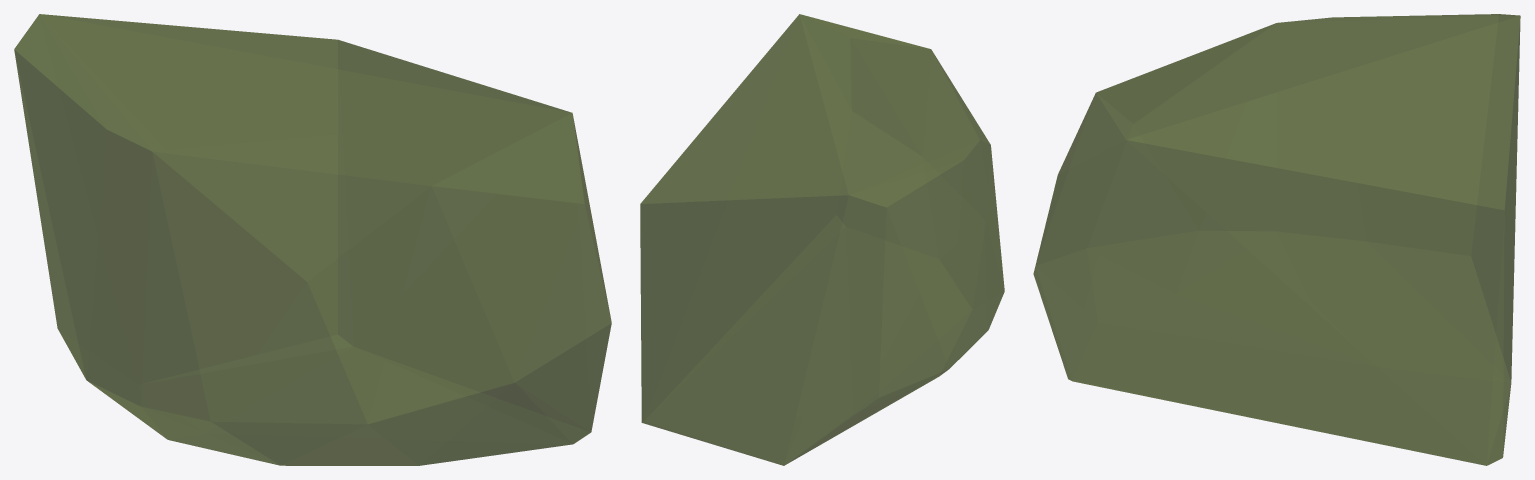
3 views of the same model, side by side, from view 1: azimuth 30°, elevation 25°; view 2: azimuth 150°, elevation 25°; view 3: azimuth 270°, elevation 25° (orthographic). The views are drawn at different scales.
Visible parts, largest first — view 1: Shape_IndexedFaceSet.020_Shape_IndexedFaceSet.10423; view 2: Shape_IndexedFaceSet.020_Shape_IndexedFaceSet.10423; view 3: Shape_IndexedFaceSet.020_Shape_IndexedFaceSet.10423.
Part boxes in pixels (bbox=[...]): Shape_IndexedFaceSet.020_Shape_IndexedFaceSet.10423: bbox=[14, 14, 611, 465]; Shape_IndexedFaceSet.020_Shape_IndexedFaceSet.10423: bbox=[640, 14, 1004, 465]; Shape_IndexedFaceSet.020_Shape_IndexedFaceSet.10423: bbox=[1033, 14, 1520, 465].
Size of the model in its own units: 0.1389 by 0.1505 by 0.2019.
